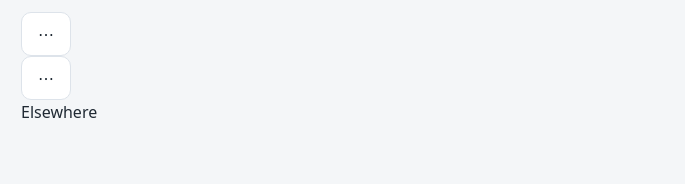
RowMenu › opens with Edit and Delete, and closes when the button is clicked again
The image size is (685, 184).
Click the button named "Actions for A". click: (46, 34)
box: [21,12,71,56]
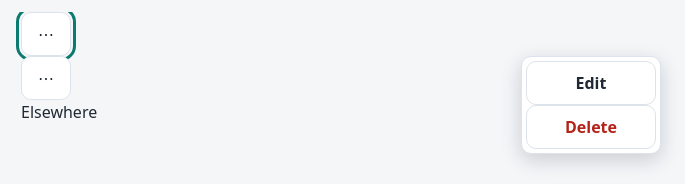
Result: the menu item with aria-label "Edit A" is shown at [526,61,656,105]
Result: the menu item with aria-label "Delete A" is shown at [526,105,656,149]
Click the button named "Actions for A". click: (46, 34)
box: [21,12,71,56]
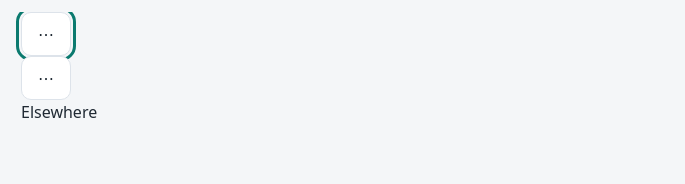
Result: the menu is gone
